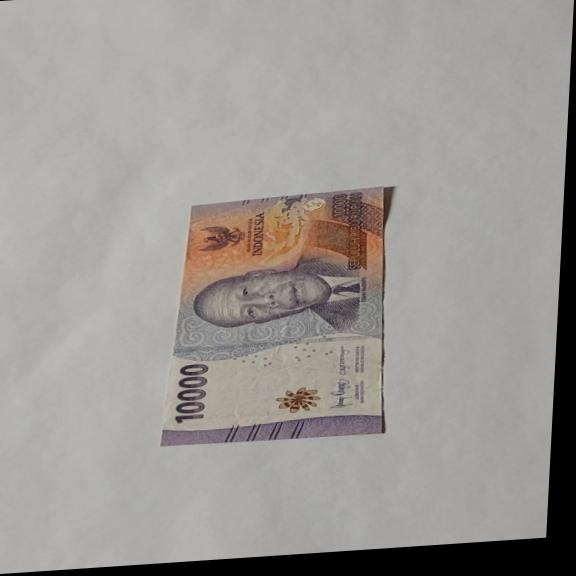Kertas: (158, 184, 398, 448), (171, 362, 211, 424)
